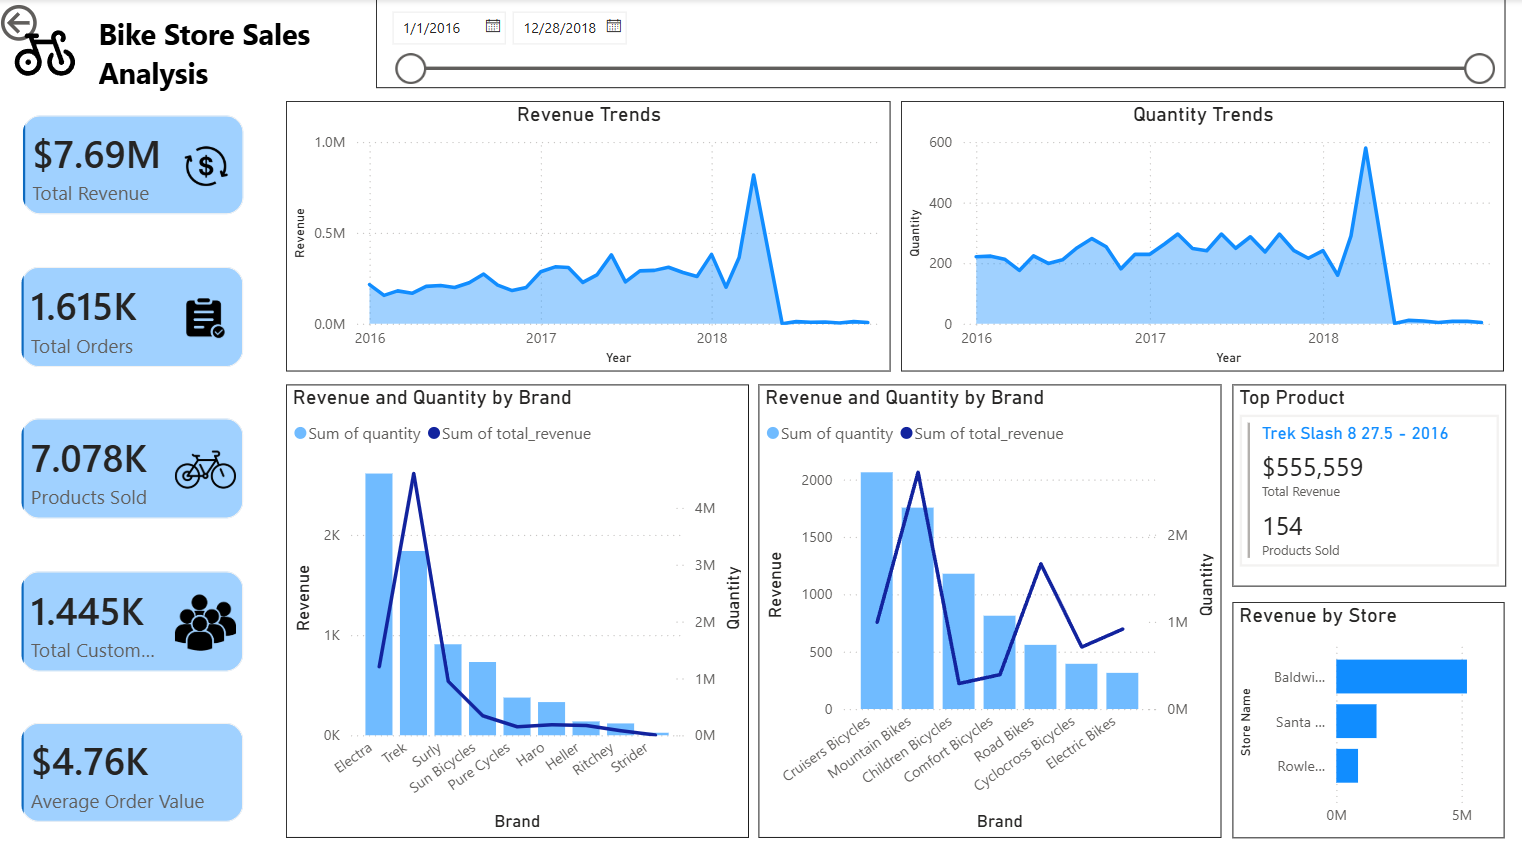

This screenshot's page, from the dashboard's own definition file:
{"tool":"powerbi","page":{"name":"Page 1","canvas":[1280,720],"ordinal":0},"visuals":[{"type":"textbox","box":[81.7,7,221.1,78.9],"z":0},{"type":"cardVisual","fields":{"Data":["Sales.Total Revenue"]},"box":[11.3,85.9,209.9,107],"z":1000},{"type":"cardVisual","fields":{"Data":["Sales.Total Orders"]},"box":[10.6,212.5,210.5,108],"z":2000},{"type":"cardVisual","fields":{"Data":["Sales.Products Sold"]},"box":[10.6,340,210.5,108],"z":3000},{"type":"cardVisual","fields":{"Data":["Sales.Total Customers"]},"box":[10.6,467.6,210.5,108],"z":4000},{"type":"cardVisual","fields":{"Data":["Sales.Average Order Value"]},"box":[10.6,595.1,210.5,107.5],"z":5000},{"type":"lineChart","title":"Revenue Trends","fields":{"Y":["Sum(Sales.total_revenue)"],"Category":["Sales.order_date.Variation.Date Hierarchy.Year","Sales.order_date.Variation.Date Hierarchy.Quarter","Sales.order_date.Variation.Date Hierarchy.Month"]},"box":[243.3,85.6,506.7,226.7],"z":6000},{"type":"lineChart","title":"Quantity Trends","fields":{"Category":["Sales.order_date.Variation.Date Hierarchy.Year","Sales.order_date.Variation.Date Hierarchy.Quarter","Sales.order_date.Variation.Date Hierarchy.Month"],"Y":["Sum(Sales.quantity)"]},"box":[760,85.6,505.6,226.7],"z":7000},{"type":"lineStackedColumnComboChart","title":"Revenue and Quantity by Brand","fields":{"Category":["Sales.brand_name"],"Y2":["Sum(Sales.total_revenue)"],"Y":["Sum(Sales.quantity)"]},"box":[243.3,323.3,387.8,380],"z":8000},{"type":"actionButton","box":[0,0,100,40],"z":9000},{"type":"barChart","title":"Revenue by Store","fields":{"Category":["Sales.store_name"],"Y":["Sum(Sales.total_revenue)"]},"box":[1037,505,228,198],"z":10000},{"type":"slicer","fields":{"Values":["Sales.order_date"]},"box":[318.9,0,946.7,74.4],"z":11000},{"type":"lineStackedColumnComboChart","title":"Revenue and Quantity by Brand","fields":{"Category":["Sales.category_name"],"Y2":["Sum(Sales.total_revenue)"],"Y":["Sum(Sales.quantity)"]},"box":[640,323.3,387.8,380],"z":12000},{"type":"multiRowCard","title":"Top Product","fields":{"Values":["Sales.product_name","Sales.Total Revenue","Sales.Products Sold"]},"box":[1037,323,229,169],"z":12001},{"type":"image","box":[0,3.6,81.4,85.7],"z":12002}]}

Visuals, with their boxes in screenshot pixels (x1, y1, x2, y2), scaled from the page's 1280x720 canvas onto the 1522x847 screenshot:
textbox: l=97, t=8, r=360, b=101
cardVisual - Sales.Total Revenue: l=13, t=101, r=263, b=227
cardVisual - Sales.Total Orders: l=13, t=250, r=263, b=377
cardVisual - Sales.Products Sold: l=13, t=400, r=263, b=527
cardVisual - Sales.Total Customers: l=13, t=550, r=263, b=677
cardVisual - Sales.Average Order Value: l=13, t=700, r=263, b=827
"Revenue Trends" lineChart: l=289, t=101, r=892, b=367
"Quantity Trends" lineChart: l=904, t=101, r=1505, b=367
"Revenue and Quantity by Brand" lineStackedColumnComboChart: l=289, t=380, r=750, b=827
actionButton: l=0, t=0, r=119, b=47
"Revenue by Store" barChart: l=1233, t=594, r=1504, b=827
slicer - Sales.order_date: l=379, t=0, r=1505, b=88
"Revenue and Quantity by Brand" lineStackedColumnComboChart: l=761, t=380, r=1222, b=827
"Top Product" multiRowCard: l=1233, t=380, r=1505, b=579
image: l=0, t=4, r=97, b=105
